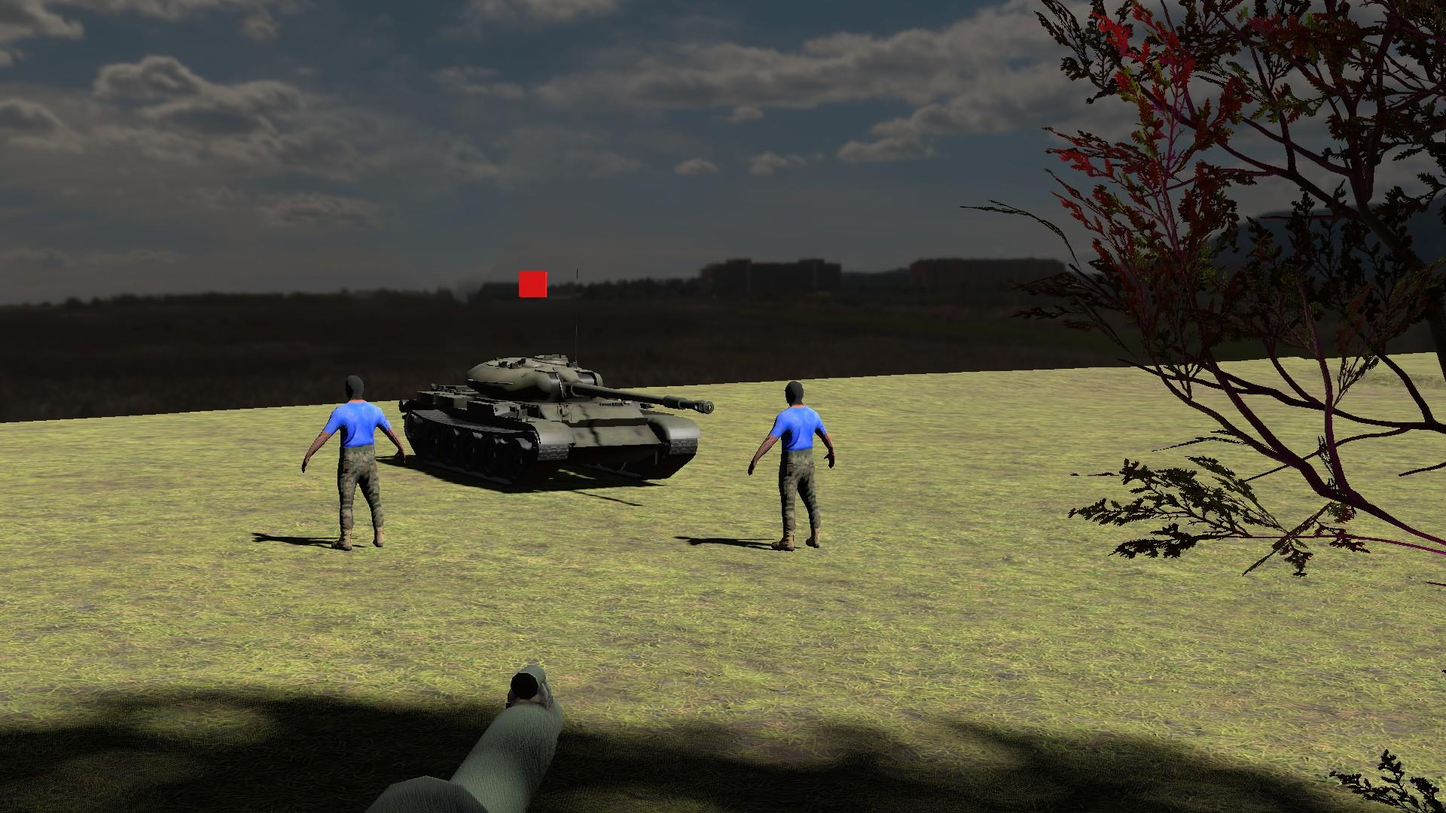Human: (296, 368, 409, 557), (742, 374, 841, 557)
Tank: (397, 338, 714, 498)
